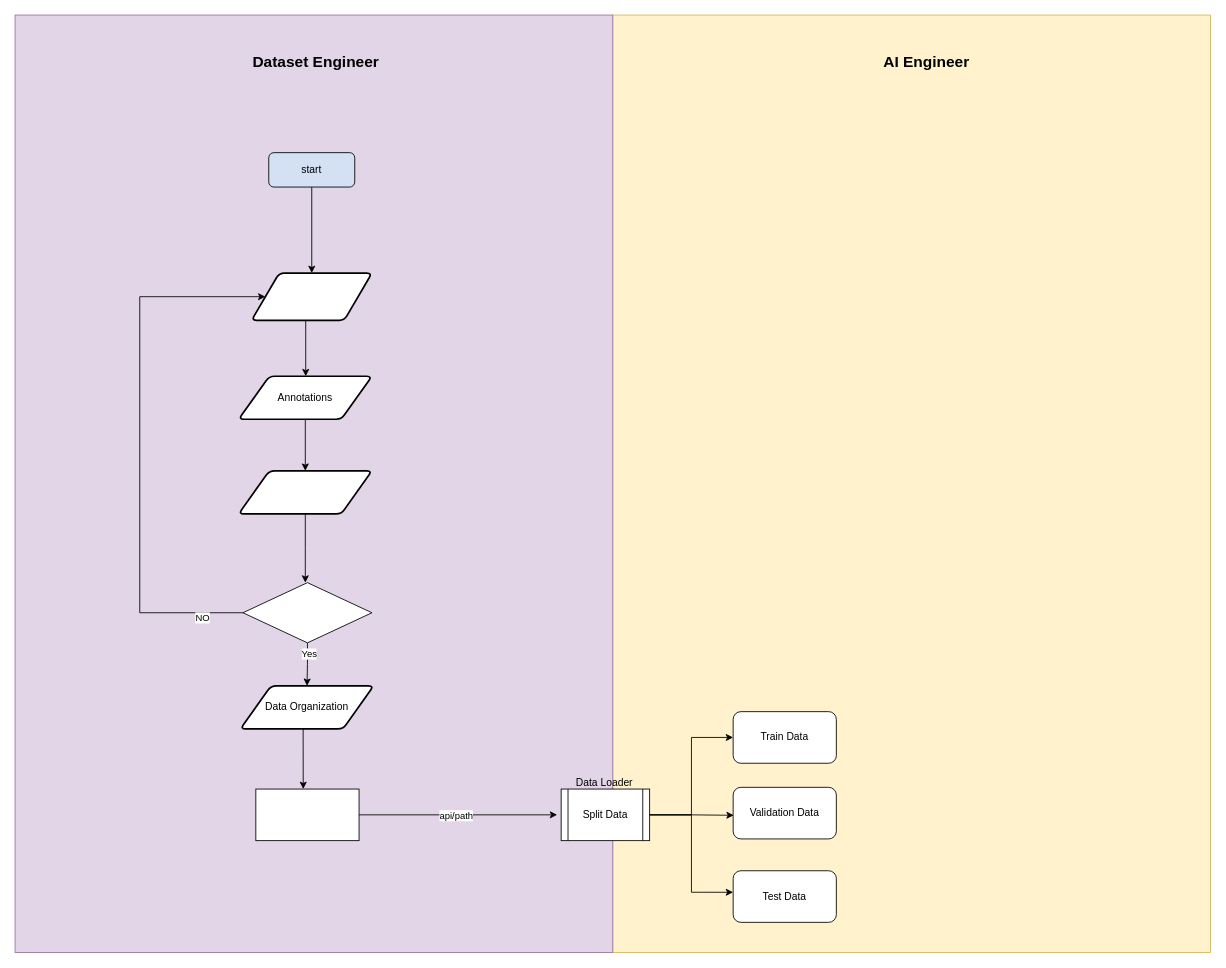
The diagram is 1226 pixels wide and 968 high, and some of its shapes have lost their labels. Each missing label, with the centre of its shape:
Accessible: (307,814)
Data Collection: (311,296)
Quality Benchmark: (307,612)
Quality Evaluation: (304,492)
